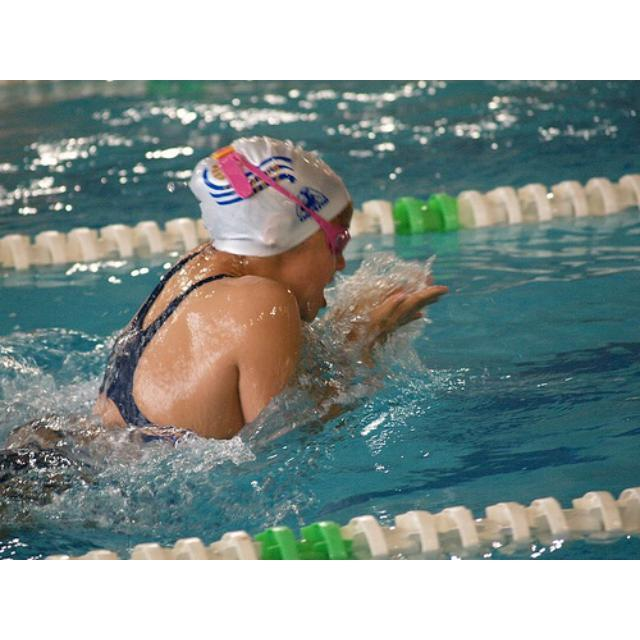human: (57, 131, 435, 463)
